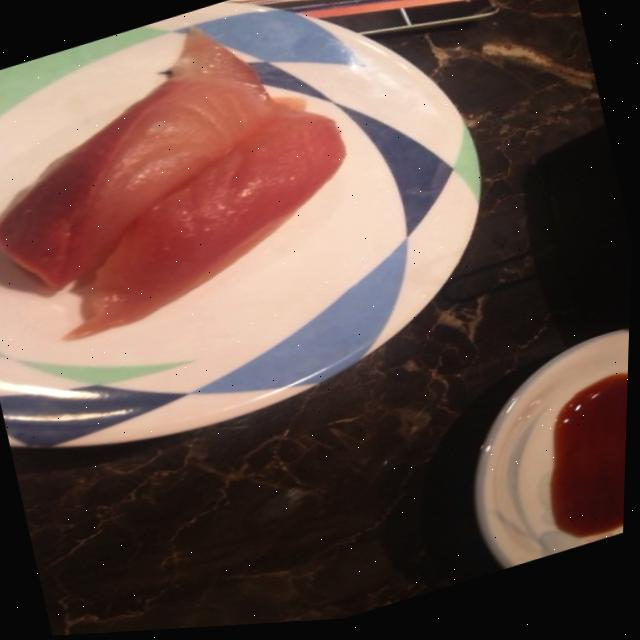寿司卷物: (0, 5, 247, 226)
